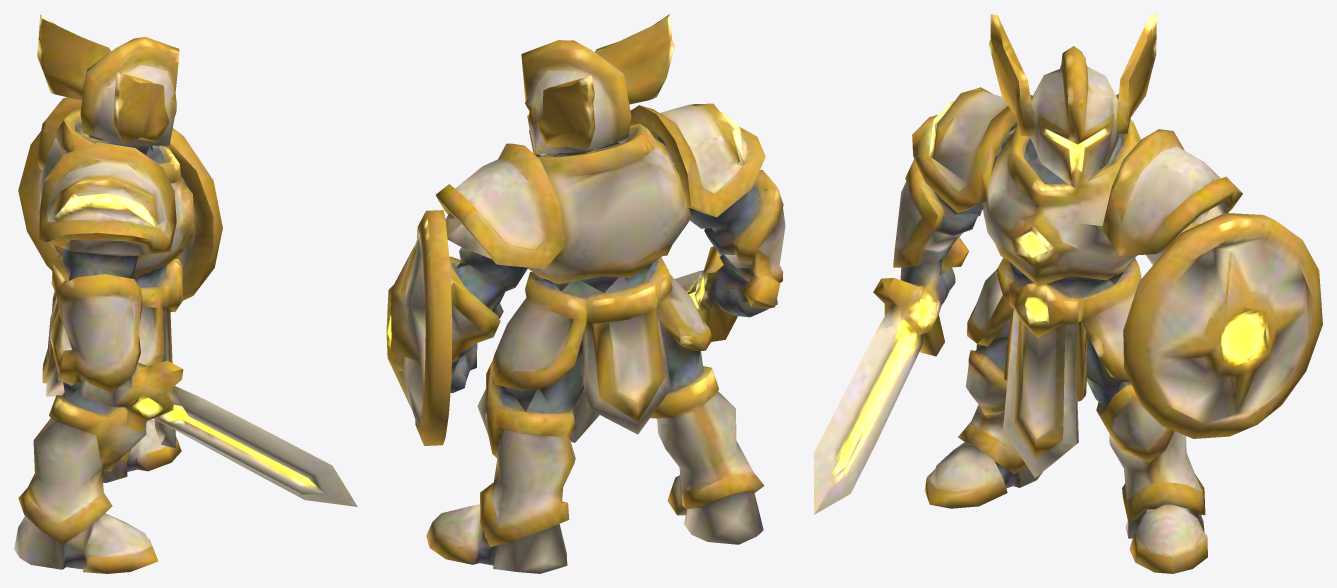
Rendered from enemy-holyGuardian-grunt.glb.
3 views of the same model, side by side, from view 1: azimuth 30°, elevation 25°; view 2: azimuth 150°, elevation 25°; view 3: azimuth 270°, elevation 25° (orthographic). The views are drawn at different scales.
Visible parts, largest first — view 1: enemy-holyGuardian-grunt-body; view 2: enemy-holyGuardian-grunt-body; view 3: enemy-holyGuardian-grunt-body.
Boxes of the visible parts, x1,y1,x2,y2 form: enemy-holyGuardian-grunt-body: [14, 14, 357, 573]; enemy-holyGuardian-grunt-body: [386, 14, 785, 573]; enemy-holyGuardian-grunt-body: [814, 14, 1322, 573].
Bounding box in the file's own units: 0.6151 × 1.06 × 1.
Materials: 1 (1 with a texture image).
